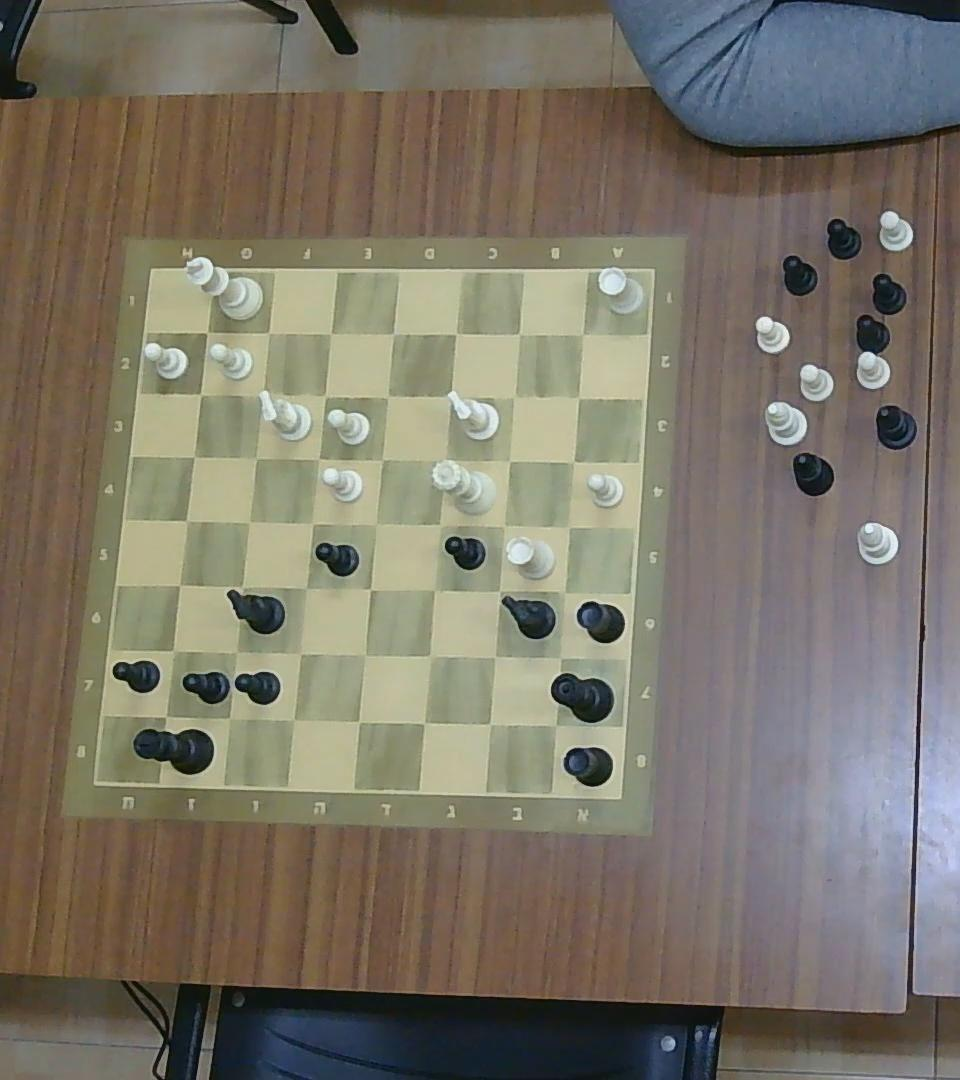xcorner: (215, 703, 242, 731), (153, 701, 179, 729), (411, 708, 437, 735), (280, 705, 305, 732), (476, 711, 503, 736), (481, 643, 506, 669), (417, 643, 442, 669), (167, 572, 192, 598), (543, 712, 568, 738), (352, 642, 377, 667), (346, 707, 370, 733), (318, 319, 342, 345), (174, 507, 198, 532), (547, 644, 572, 668), (224, 638, 247, 664), (376, 383, 399, 409), (236, 508, 259, 534), (431, 448, 455, 472), (288, 640, 311, 665), (364, 512, 387, 536), (558, 514, 581, 538), (257, 320, 280, 344), (421, 578, 444, 602), (294, 575, 317, 599), (162, 639, 185, 663), (427, 512, 450, 536), (188, 381, 211, 405), (487, 578, 510, 602), (250, 381, 273, 405), (381, 321, 403, 346), (300, 511, 323, 534), (492, 513, 515, 536), (230, 575, 253, 598), (196, 320, 218, 344), (438, 384, 460, 408), (182, 445, 204, 468), (444, 322, 466, 345), (359, 577, 381, 600), (552, 581, 575, 603), (245, 446, 267, 468), (562, 449, 584, 471), (371, 447, 392, 470), (509, 323, 530, 345), (308, 447, 328, 470), (499, 448, 518, 472), (572, 323, 592, 345), (315, 384, 335, 405), (504, 386, 524, 406), (568, 388, 588, 407)
